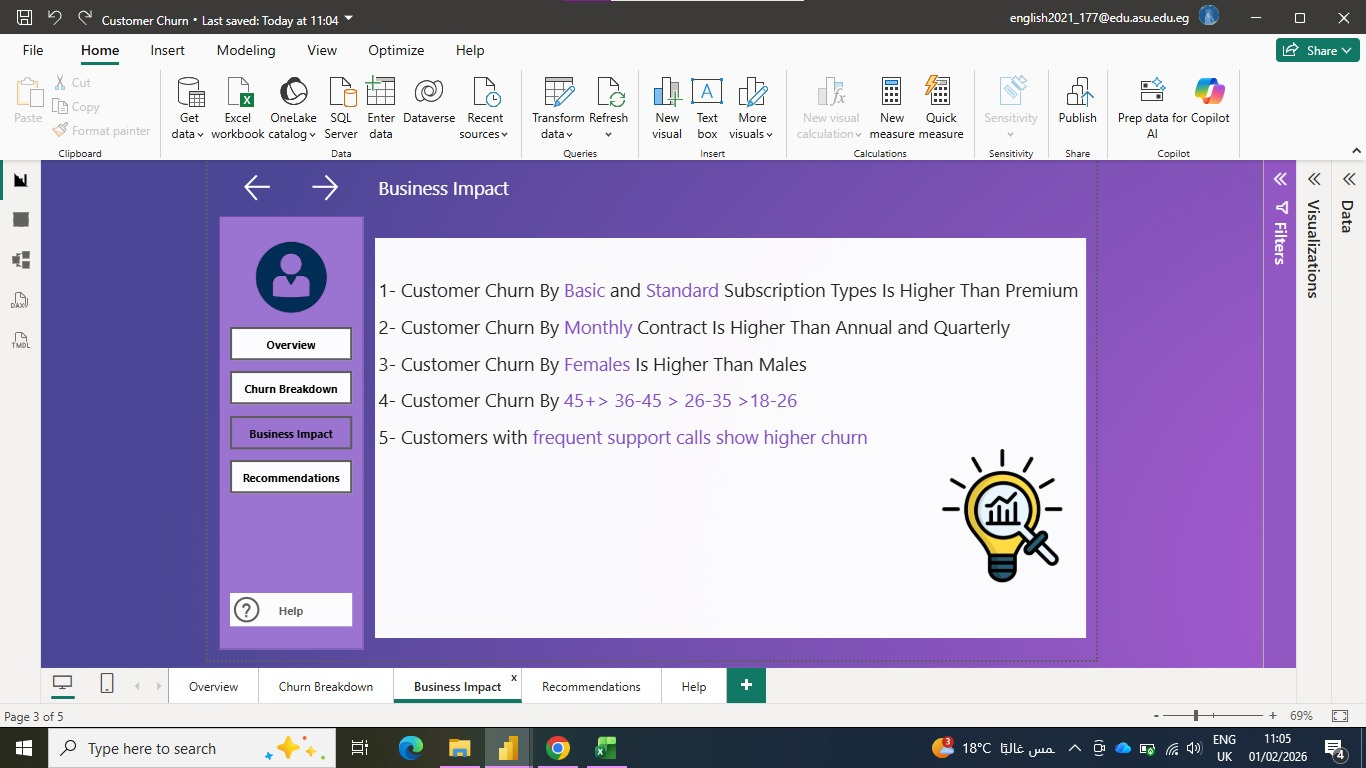

What the dashboard file says about the page in this screenshot:
{"tool":"powerbi","page":{"name":"Business Impact","canvas":[1280,720],"ordinal":2},"visuals":[{"type":"textbox","box":[240,112,1024,576],"z":0},{"type":"textbox","box":[240,16,1024,48],"z":1000},{"type":"image","box":[1024,416,240,192],"z":2000},{"type":"actionButton","box":[48,16,64,48],"z":3000},{"type":"actionButton","box":[144,16,64,48],"z":4000},{"type":"shape","box":[16,80,208,624],"z":5000},{"type":"image","box":[16,112,208,112],"z":6000},{"type":"actionButton","box":[32,304,176,48],"z":7000},{"type":"actionButton","box":[32,240,176,48],"z":8000},{"type":"actionButton","box":[32,368,176,48],"z":9000},{"type":"actionButton","box":[32,432,176,48],"z":10000},{"type":"actionButton","box":[32,624,176,48],"z":11000}]}

Visuals, with their boxes on the page's 1280x720 design canvas (x1, y1, x2, y2). These are canvas units, not pixel positions in the 1366x768 screenshot, which may show the page scaled, cropped or inside an application window:
textbox: Rect(240, 112, 1264, 688)
textbox: Rect(240, 16, 1264, 64)
image: Rect(1024, 416, 1264, 608)
actionButton: Rect(48, 16, 112, 64)
actionButton: Rect(144, 16, 208, 64)
shape: Rect(16, 80, 224, 704)
image: Rect(16, 112, 224, 224)
actionButton: Rect(32, 304, 208, 352)
actionButton: Rect(32, 240, 208, 288)
actionButton: Rect(32, 368, 208, 416)
actionButton: Rect(32, 432, 208, 480)
actionButton: Rect(32, 624, 208, 672)
